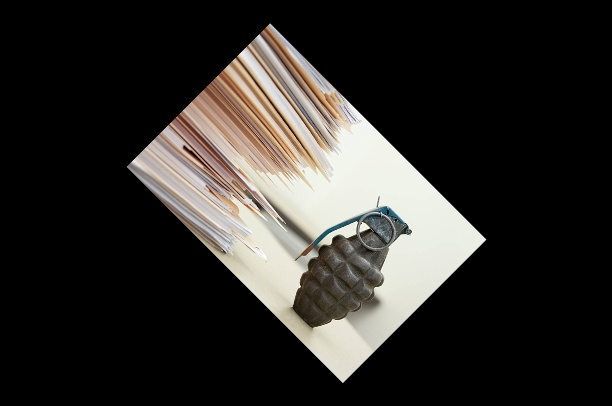e1: (290, 195, 414, 329)
